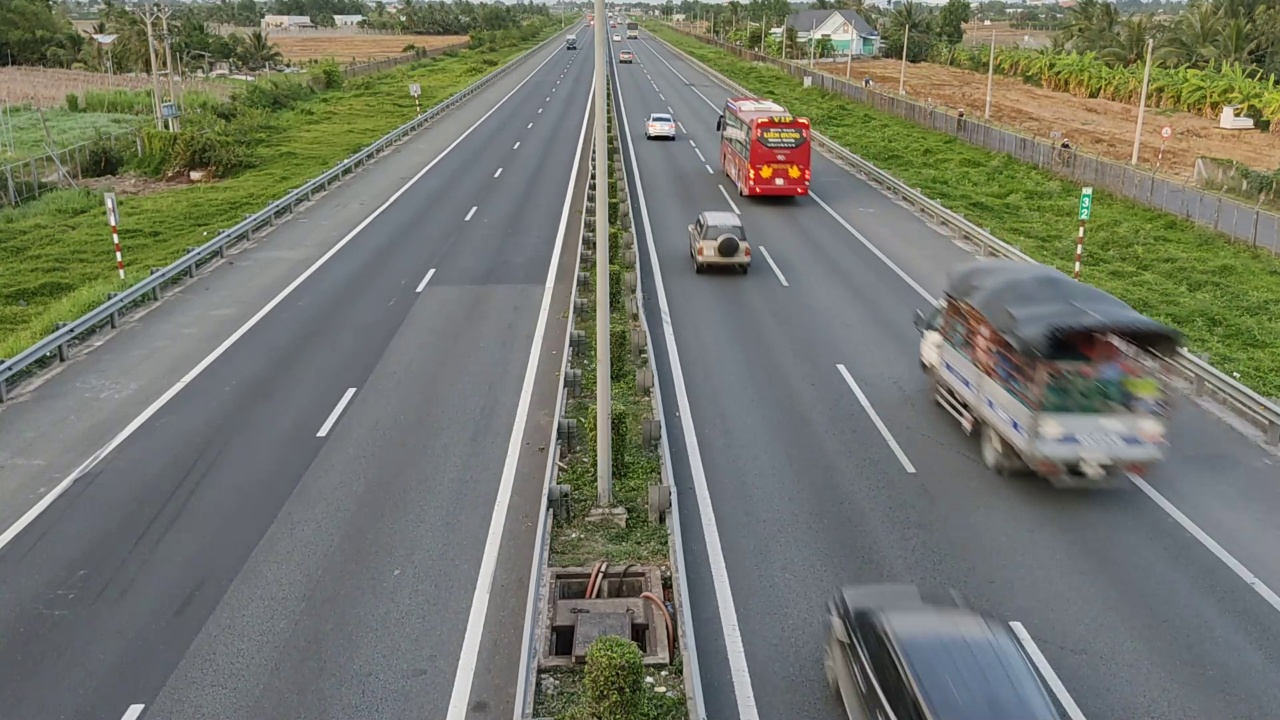bus: (717, 97, 813, 197)
car: (687, 210, 753, 273), (645, 112, 677, 140)
truck: (915, 253, 1174, 499)
